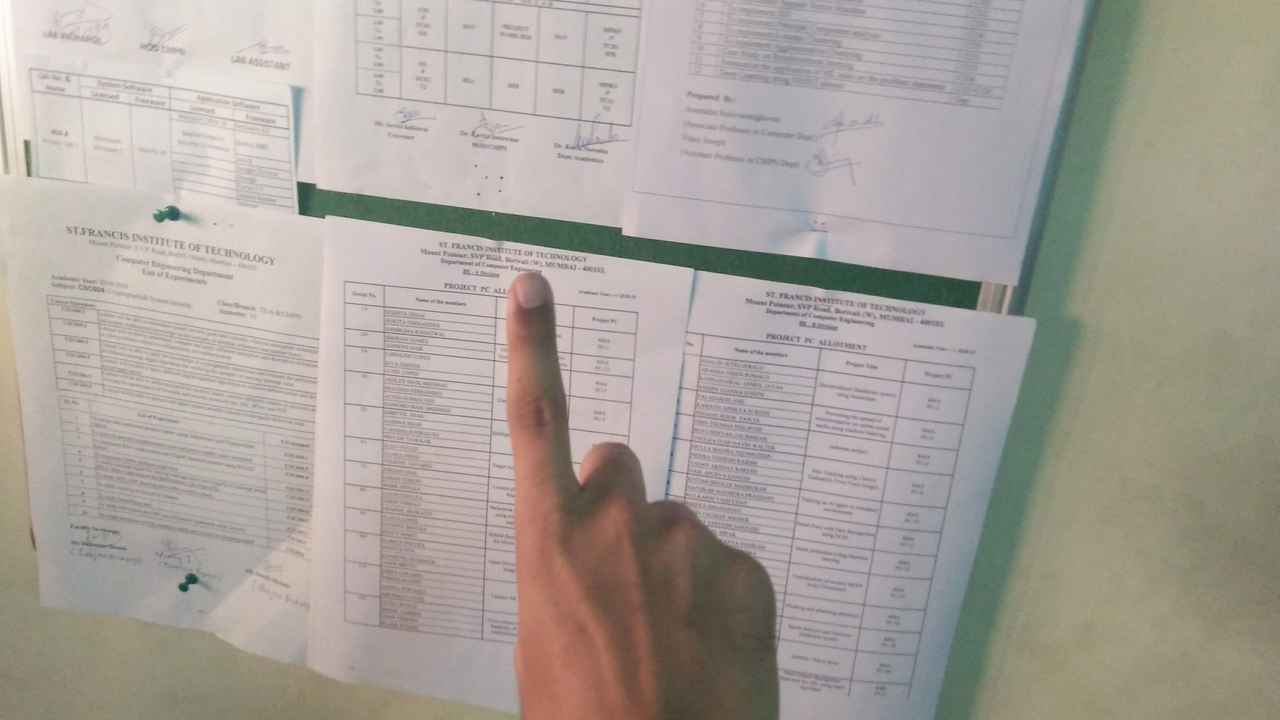fingertip: (500, 268, 556, 324)
